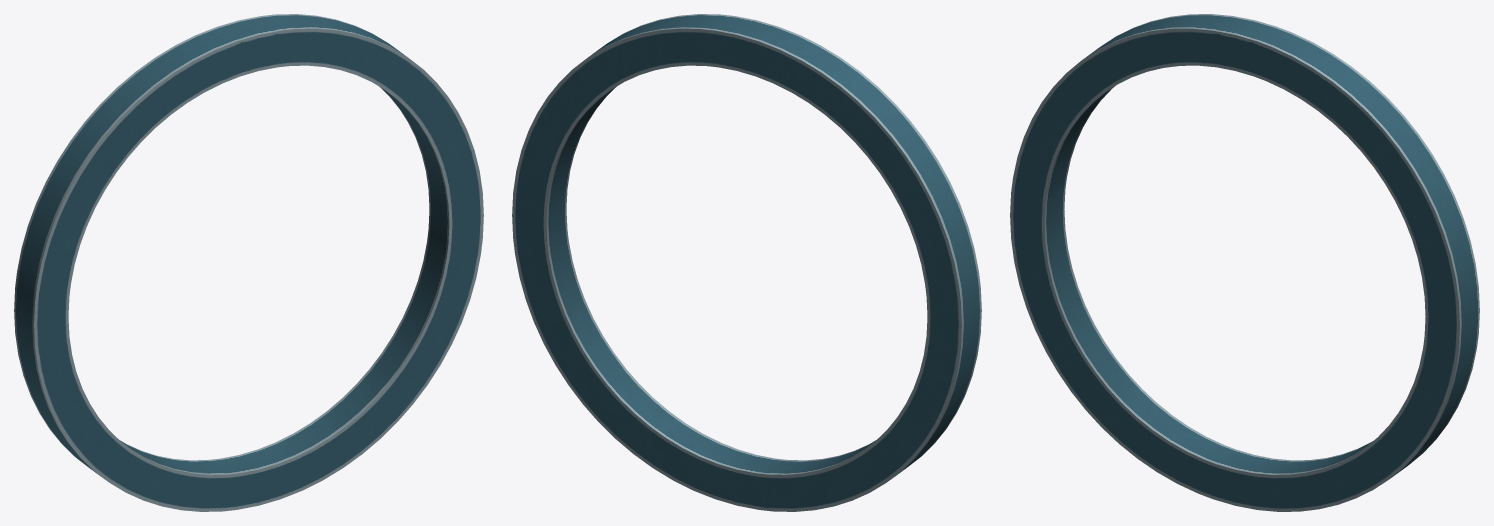
The model's file is ads.fbx.
The picture shows the model from 3 angles, left to right: view 1: azimuth 30°, elevation 25°; view 2: azimuth 150°, elevation 25°; view 3: azimuth 330°, elevation 25°; orthographic projection.
Visible parts, largest first — view 1: export3dcoat; view 2: export3dcoat; view 3: export3dcoat.
Part boxes in pixels (box(x1,y1,x2,y2)): export3dcoat: box(14, 14, 483, 511); export3dcoat: box(512, 14, 981, 511); export3dcoat: box(1010, 14, 1479, 511).
Bounding box in the file's own units: 13952 × 13952 × 1070.
